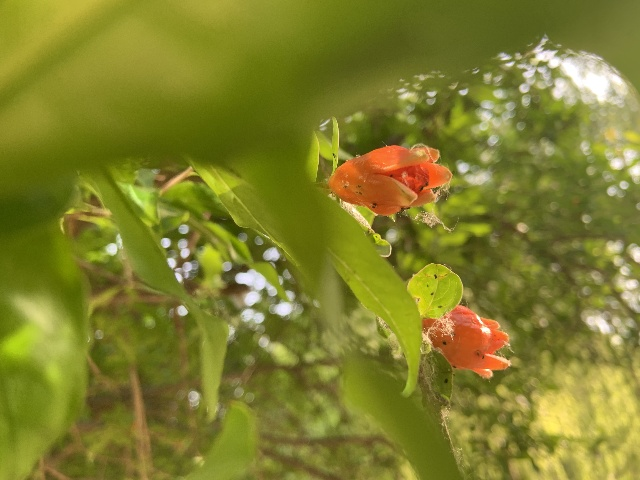flower: (328, 144, 451, 215), (423, 304, 510, 378)
